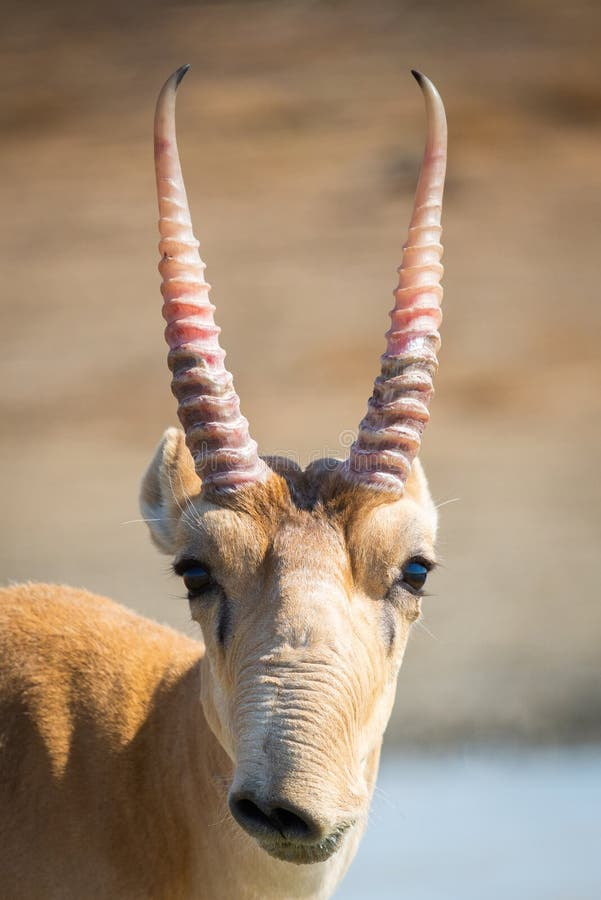saiga: (3, 64, 449, 900)
